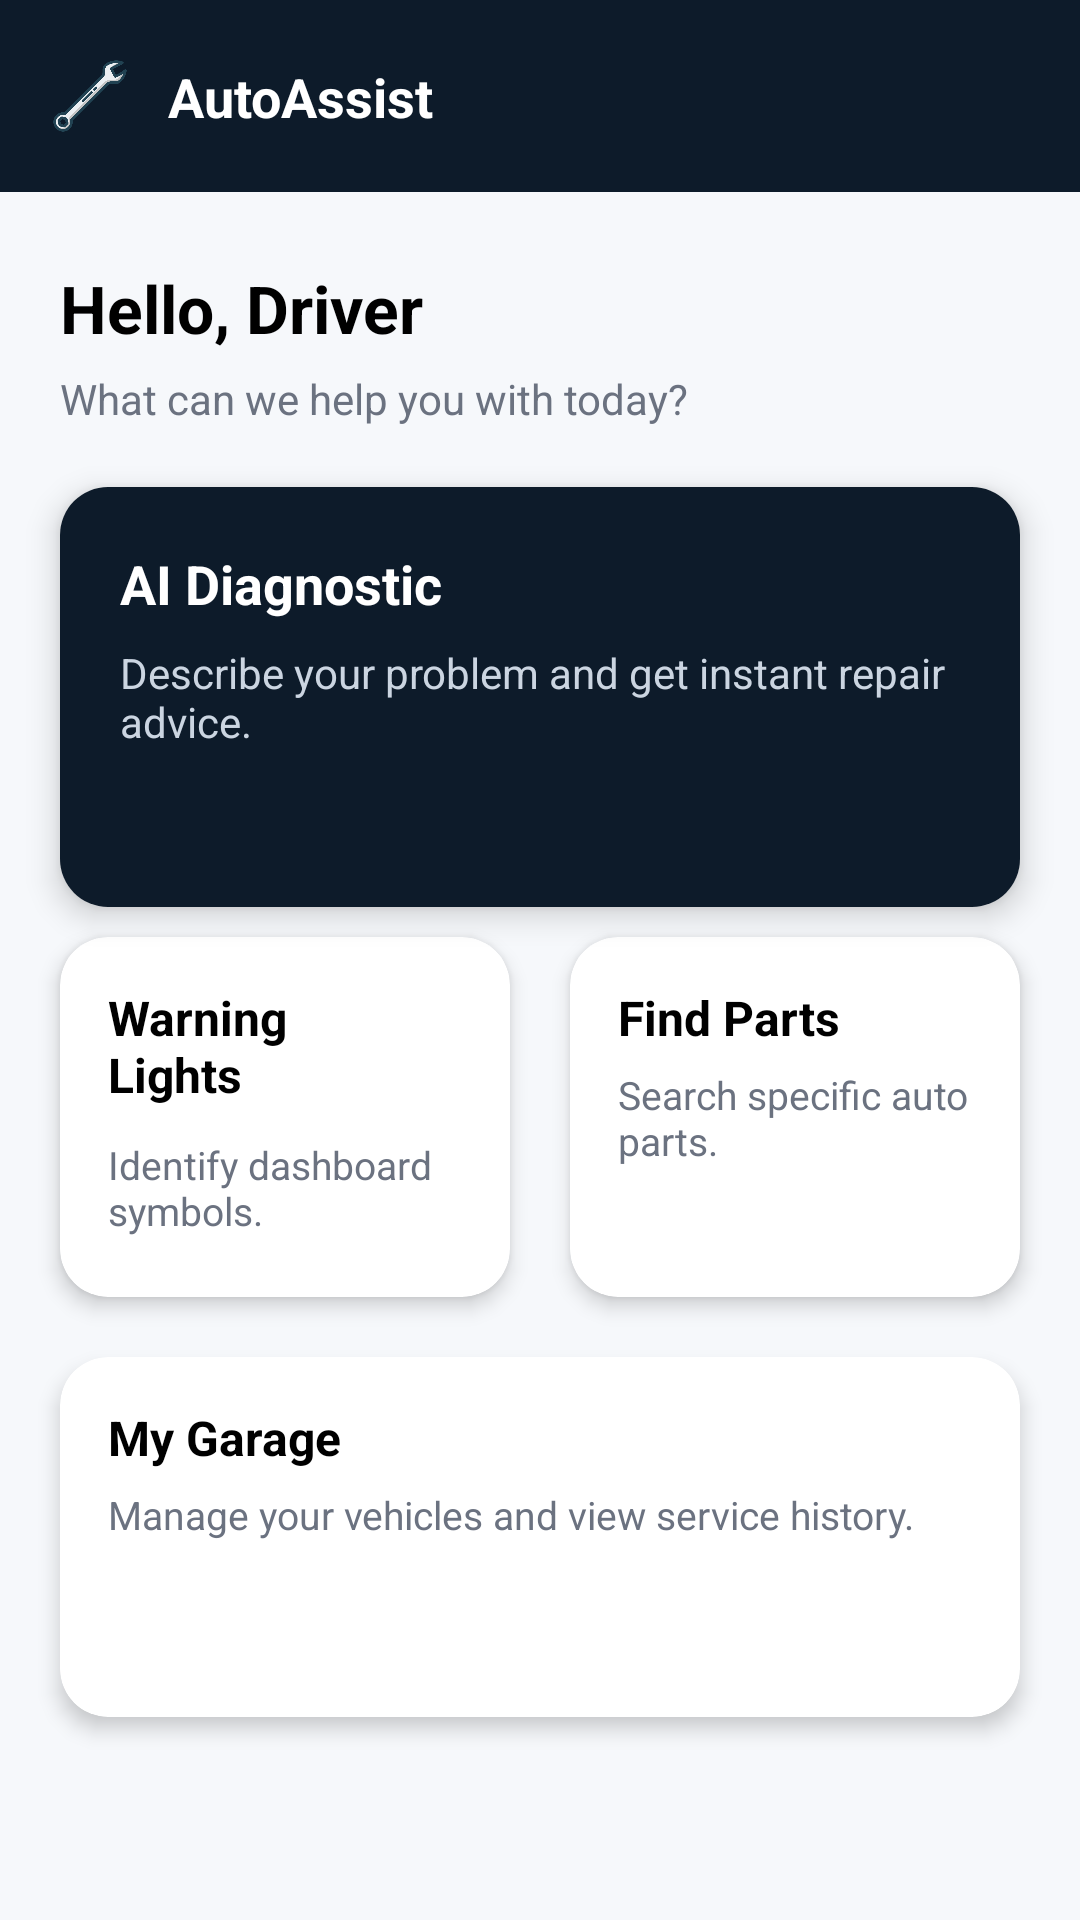

Locate icon controls on the screen. Image size 1080px x 1920px, boxes as bbox=[x1, y1, x2, y2].
tool: bbox=[53, 60, 127, 132]
